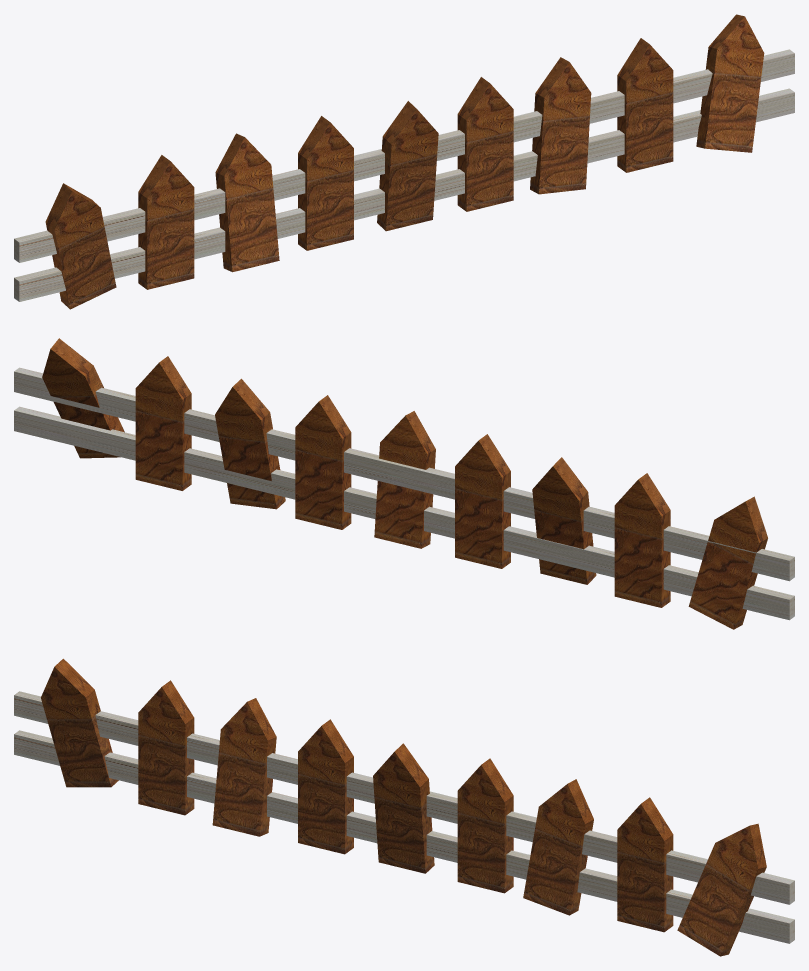
The model's file is fence.glb.
3 views of the same model, one above another, from view 1: azimuth 30°, elevation 25°; view 2: azimuth 150°, elevation 25°; view 3: azimuth 330°, elevation 25° (orthographic).
Parts seen in each view (by area): view 1: 立方体.011, 立方体.012, 立方体.009, 立方体.003, 立方体.007, 立方体.002, 立方体.008, 立方体.006, 立方体.004, 立方体.005, 立方体.001; view 2: 立方体.012, 立方体.011, 立方体.001, 立方体.002, 立方体.008, 立方体.006, 立方体.004, 立方体.007, 立方体.005, 立方体.003, 立方体.009; view 3: 立方体.011, 立方体.012, 立方体.009, 立方体.003, 立方体.007, 立方体.006, 立方体.008, 立方体.002, 立方体.004, 立方体.001, 立方体.005.
Part boxes in pixels (x1,y1,x2,y2): 立方体.011: (14, 49, 794, 262); 立方体.012: (14, 88, 794, 301); 立方体.009: (696, 14, 764, 152); 立方体.003: (215, 133, 279, 272); 立方体.007: (530, 57, 591, 194); 立方体.002: (138, 155, 194, 289); 立方体.008: (617, 38, 673, 172); 立方体.006: (457, 77, 513, 211); 立方体.004: (298, 116, 353, 250); 立方体.005: (377, 101, 438, 231); 立方体.001: (45, 183, 116, 309); 立方体.012: (14, 406, 794, 620); 立方体.011: (14, 367, 794, 581); 立方体.001: (688, 496, 767, 629); 立方体.002: (614, 473, 670, 607); 立方体.008: (135, 356, 191, 490); 立方体.006: (295, 395, 351, 529); 立方体.004: (455, 434, 510, 568); 立方体.007: (215, 378, 285, 509); 立方体.005: (374, 411, 435, 548); 立方体.003: (532, 457, 596, 584); 立方体.009: (42, 338, 124, 458); 立方体.011: (14, 691, 794, 904); 立方体.012: (14, 730, 794, 943); 立方体.009: (677, 823, 766, 956); 立方体.003: (212, 698, 276, 836); 立方体.007: (523, 779, 593, 915); 立方体.006: (457, 758, 513, 893); 立方体.008: (617, 797, 673, 932); 立方体.002: (138, 680, 194, 815); 立方体.004: (298, 719, 353, 854); 立方体.001: (41, 658, 118, 787); 立方体.005: (373, 743, 434, 873).
Size of the model in its own units: 9.91 by 1.56 by 0.5988.
2 materials, 2 textured.
